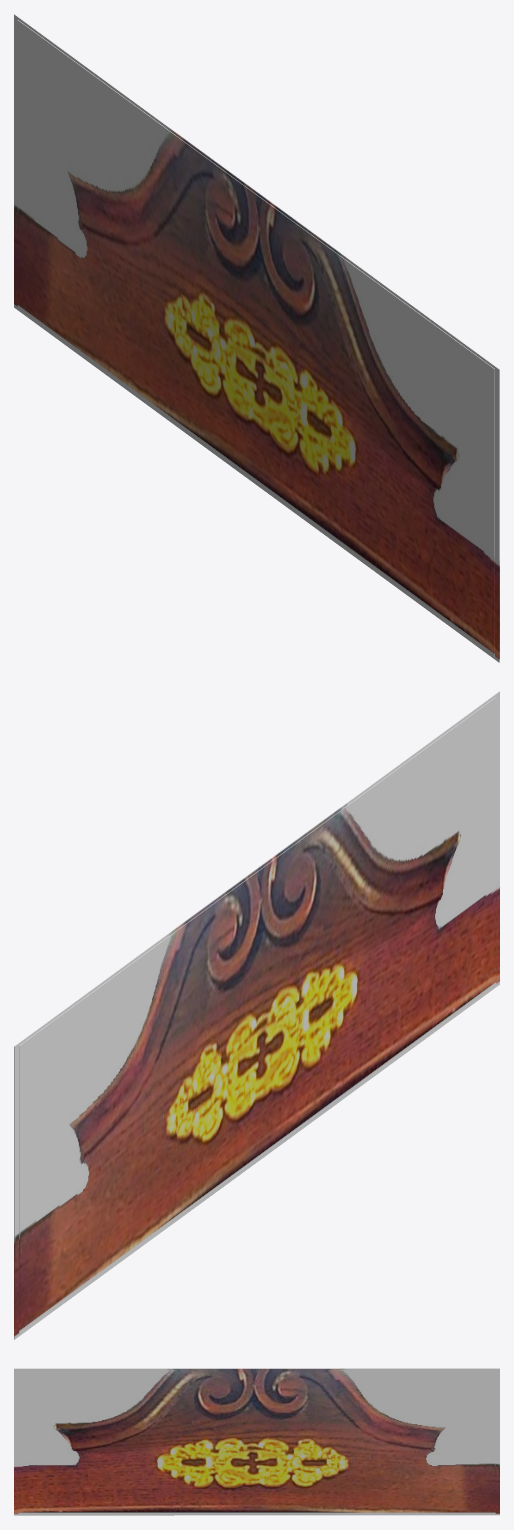
Rendered from 46 - para ornamentów z podniebia konfesjonałów.glb.
3 renders of one model, top to bottom at view 1: azimuth 30°, elevation 25°; view 2: azimuth 150°, elevation 25°; view 3: azimuth 270°, elevation 25°, orthographic. The views are drawn at different scales.
Parts seen in each view (by area): view 1: Plane; view 2: Plane; view 3: Plane.
Boxes of the visible parts, x1,y1,x2,y2 form: Plane: (14, 14, 499, 662); Plane: (14, 691, 499, 1339); Plane: (14, 1368, 499, 1515).
Bounding box in the file's own units: 0.0246 × 4 × 12.
1 material, 1 textured.
